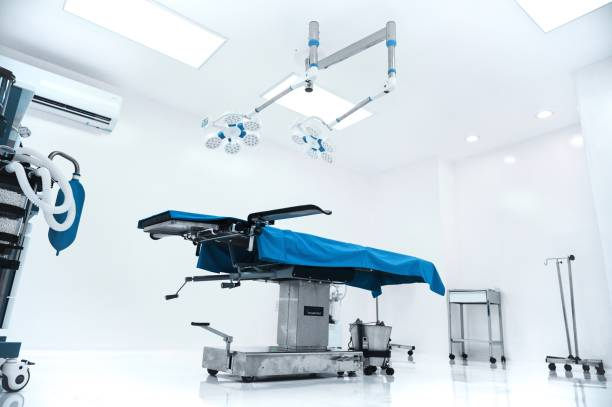breathing_tube: (4, 142, 81, 240)
iv_pole: (545, 253, 575, 356)
operating_bed: (136, 198, 443, 373)
surgical_light: (204, 111, 259, 155), (289, 123, 334, 164)
utility_cart: (448, 289, 508, 364)
waste_bin: (344, 312, 397, 378)
